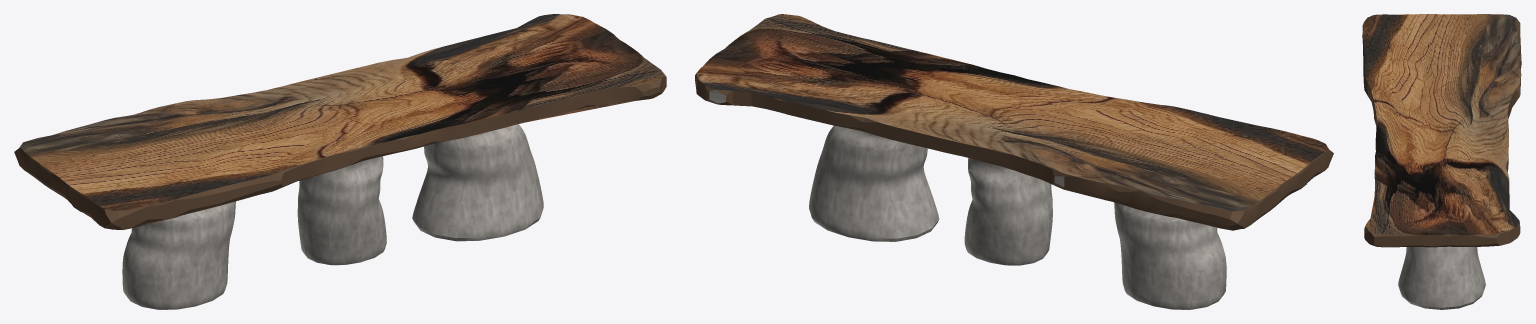
Rendered from CaveWorkbenchStoneJoint.fbx.
3 renders of one model, left to right at view 1: azimuth 30°, elevation 25°; view 2: azimuth 150°, elevation 25°; view 3: azimuth 270°, elevation 25°, orthographic. The views are drawn at different scales.
Visible parts, largest first — view 1: Cube.007; view 2: Cube.007; view 3: Cube.007.
Part boxes in pixels (x1,y1,x2,y2): Cube.007: (14,14,666,309); Cube.007: (695,14,1333,309); Cube.007: (1362,14,1521,309).
Bounding box in the file's own units: 1352 × 331 × 413.
Materials: 2 (2 with a texture image).
